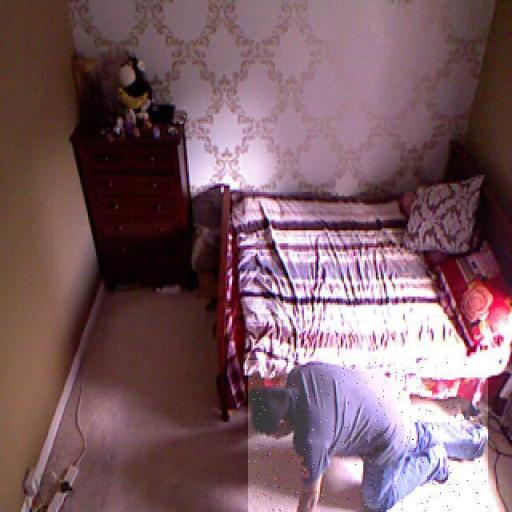Fall: (248, 360, 488, 512)
